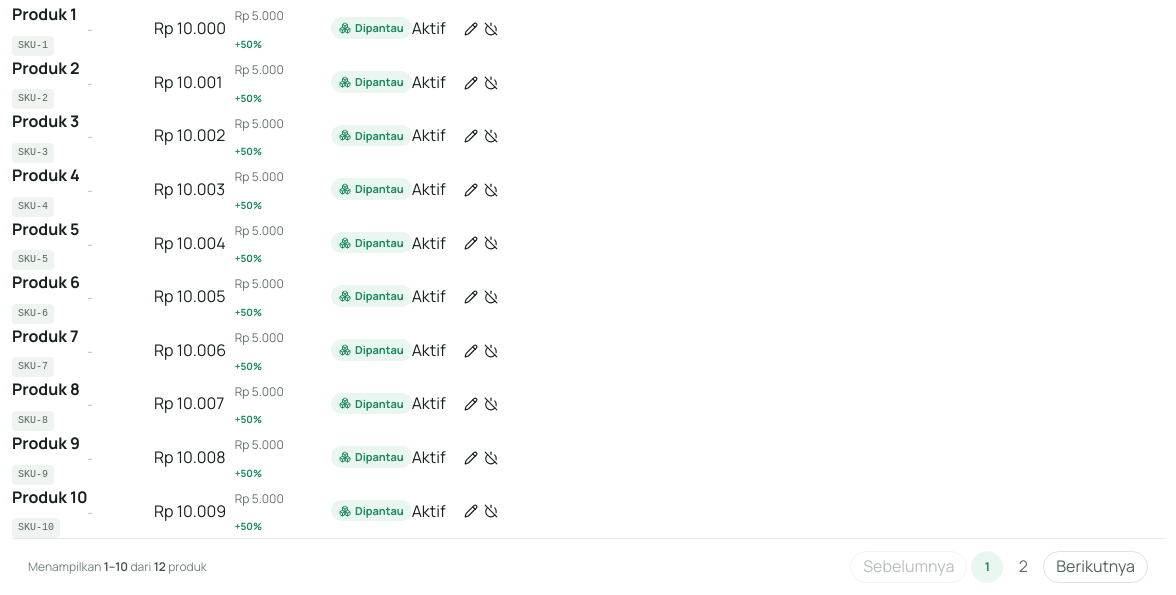
Test: ProductManager pagination › menampilkan 10 produk per halaman dan mereset halaman saat pencarian berubah
(page scrolled)
Expected: the text "Produk 1" is shown, [12,3,77,25]
Expected: the text "Produk 10" is shown, [12,486,88,508]
Click the button "Berikutnya" at [1096, 567], box [1043,551,1148,583]
(page scrolled)
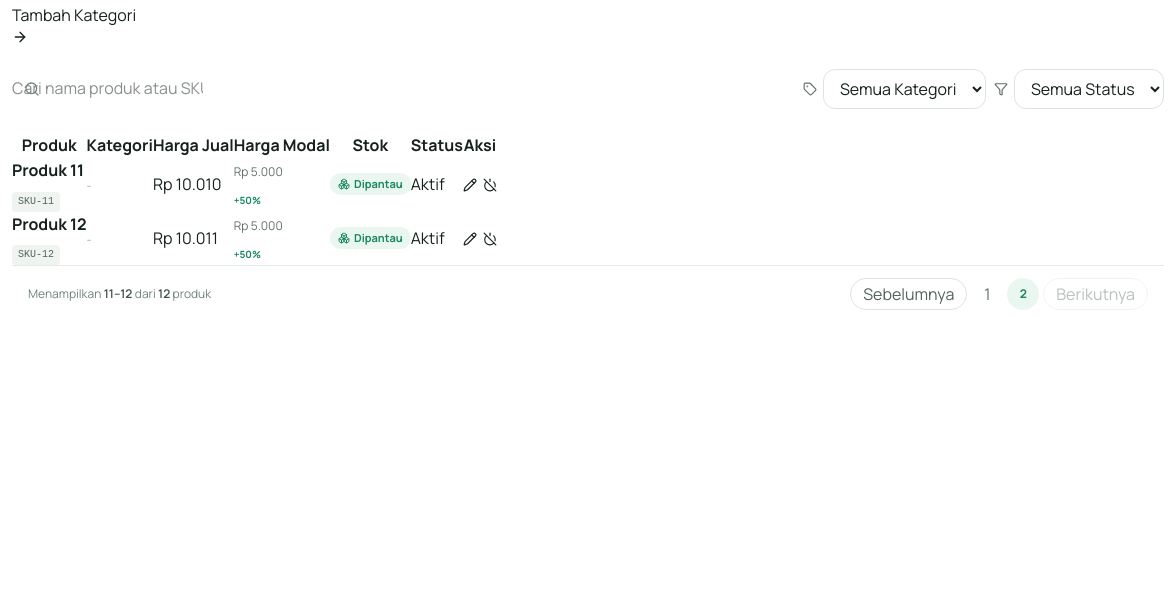
Result: the text "Produk 11" is shown at [12,159,84,181]
Result: the text "Produk 12" is shown at [12,213,87,235]
Result: the text "Menampilkan 11–12 dari 12 produk" is shown at [28,286,211,302]
Type "Produk 1" into the field with placeholder "Cari nama produk atau SKU..." at [108, 89], box [12,76,203,101]
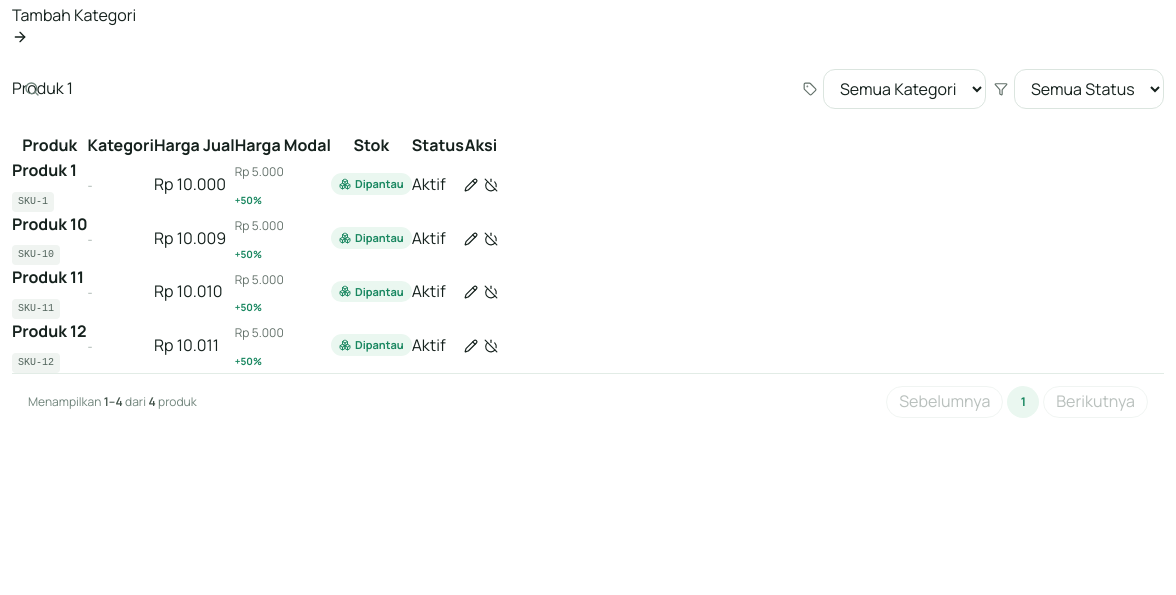
Expected: the text "Produk 1" is shown, [12,159,77,181]
Result: the text "Menampilkan 1–4 dari 4 produk" is shown at [28,394,197,410]
